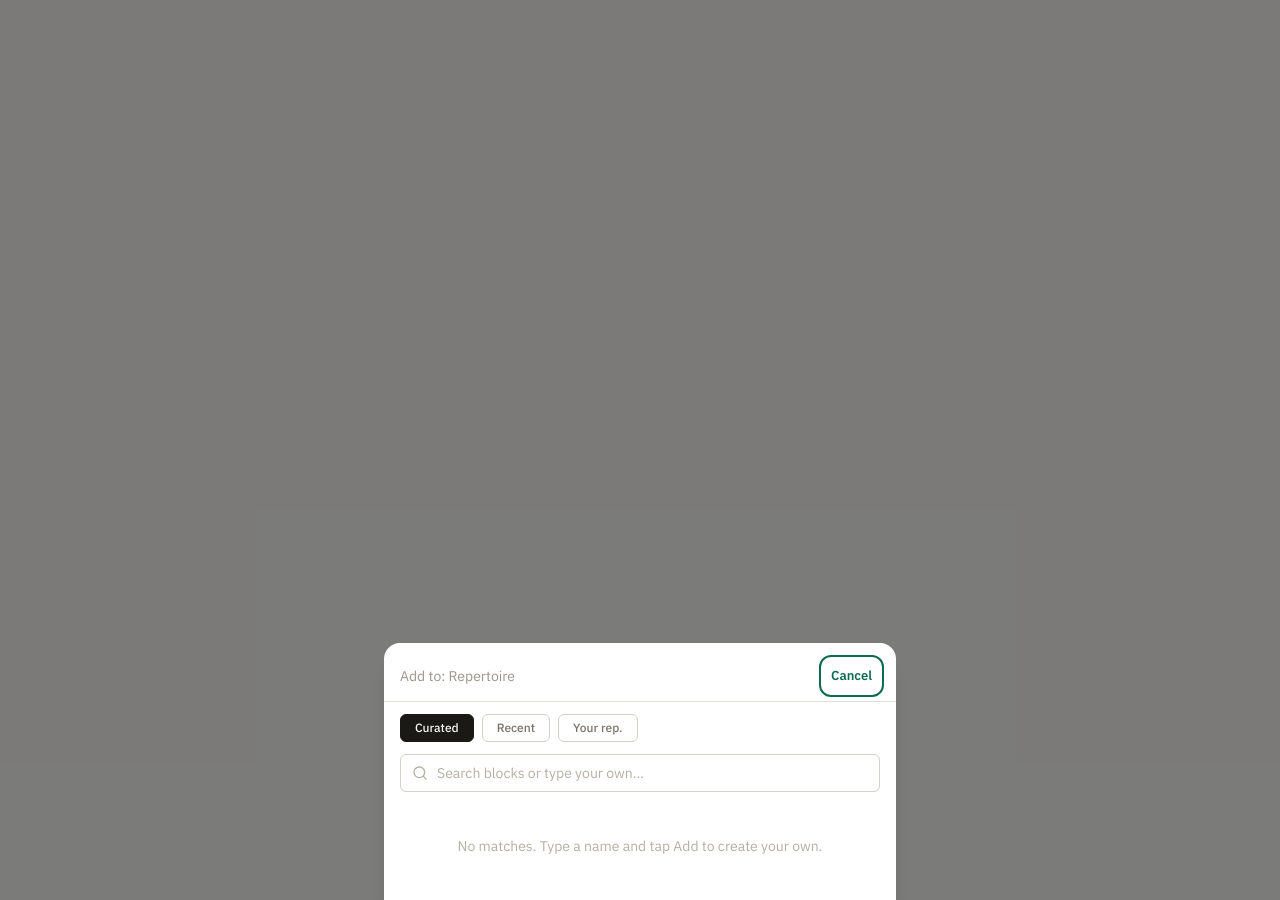
Scenario: AddBlockSheet › "Your repertoire" tab › offers to create the first piece when the library is empty
Step 1. Click the button "Your rep." → (598, 728), box [558,714,638,742]
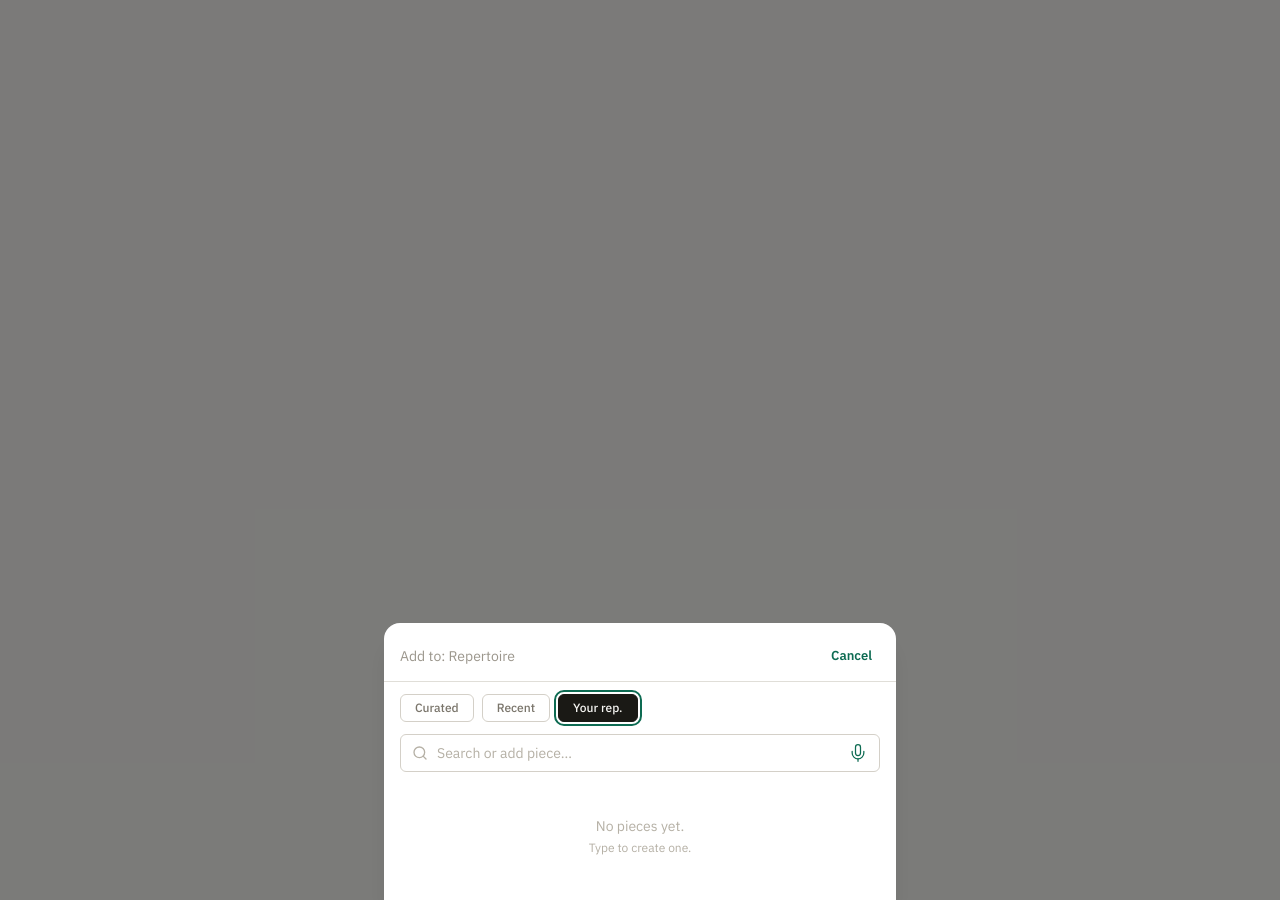
Check: the text "No pieces yet." is shown, box [596,817,684,835]
Check: the text "Type to create one." is shown, box [589,840,691,855]
